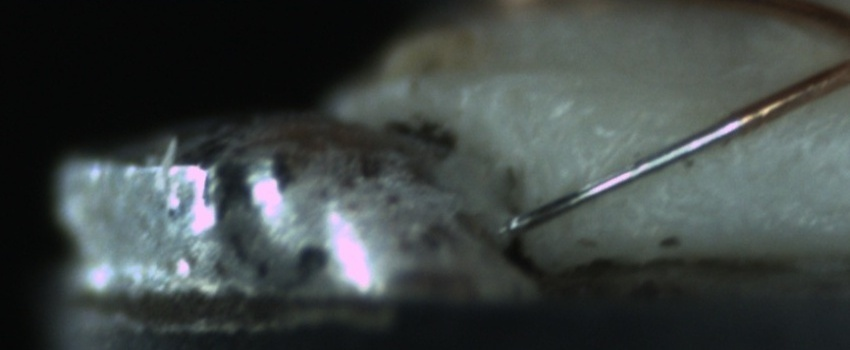TS: (506, 111, 752, 234)
